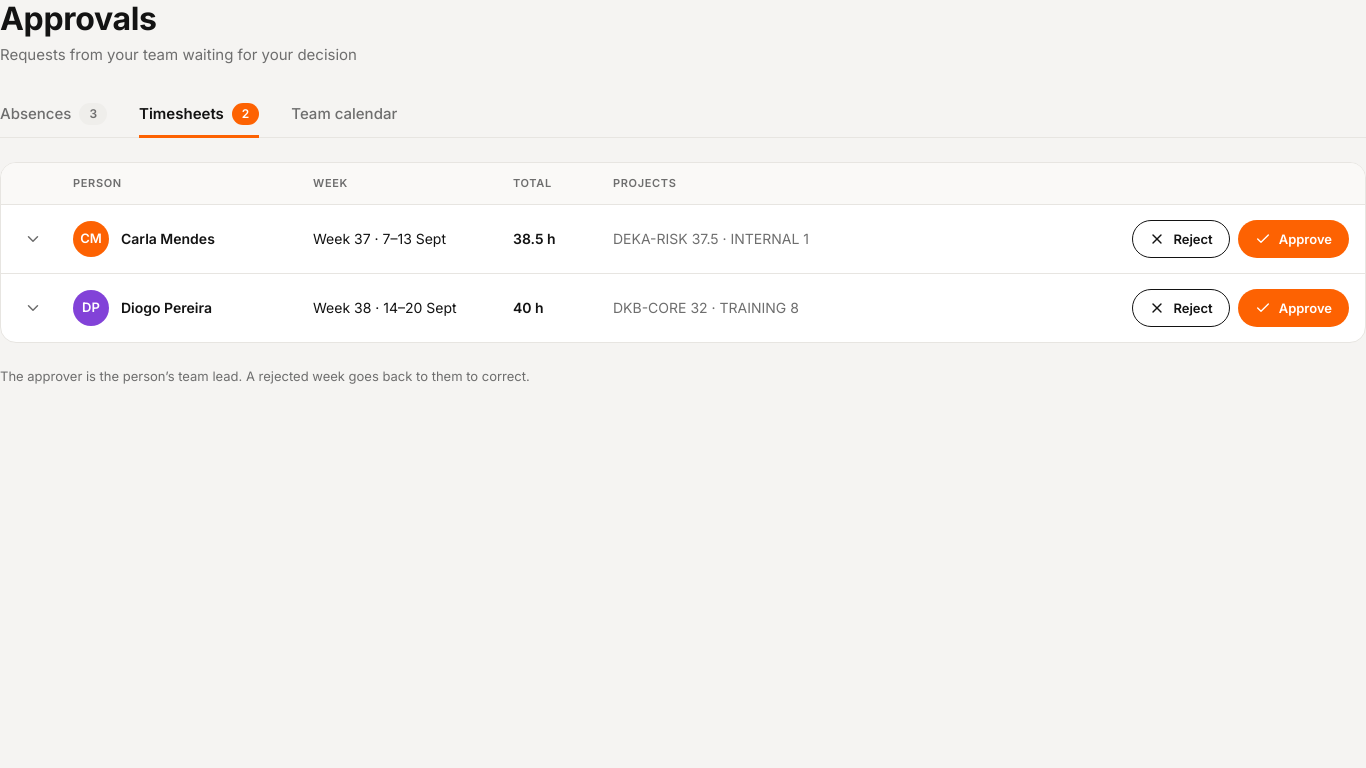
Test: ApprovalsView, Timesheets tab › shows a week’s descriptions from the grid
Check: the element showing "Absences 3 Timesheets 2 Team calendar" is shown, box [0,91,1365,138]
Step 1. Click the button named "Hours of Diogo Pereira’s week 38, 14–20 Sept" → [33, 308], box [17,292,49,324]
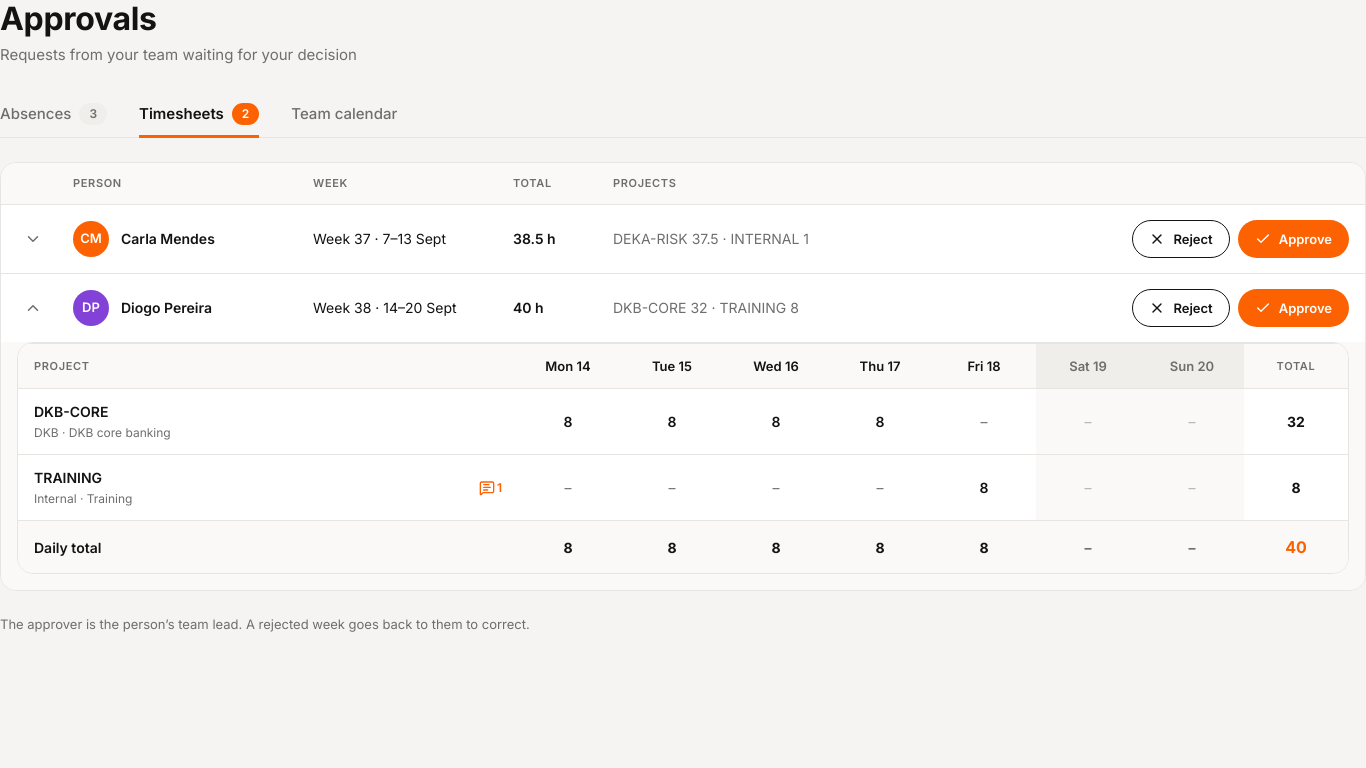
Step 2. Click the button "1" → [490, 488], box [473,473,508,503]
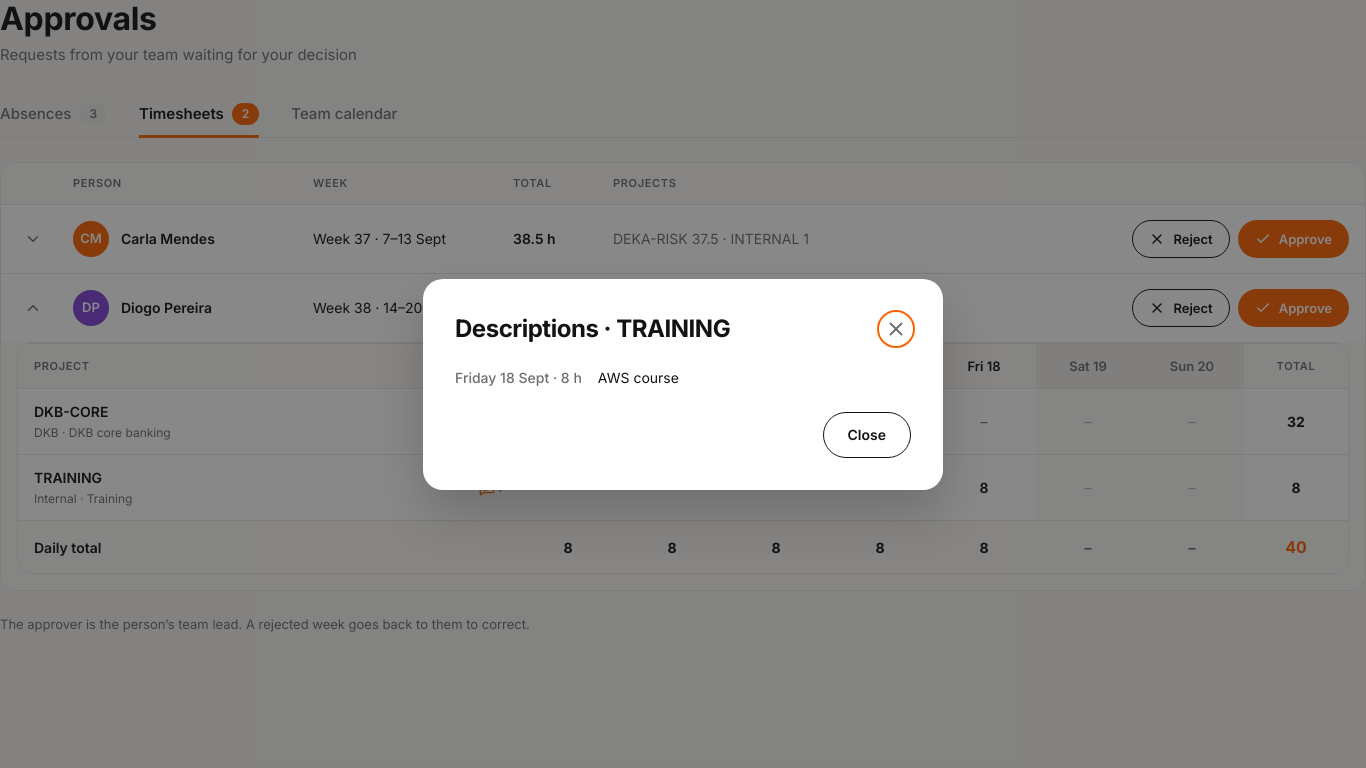
Check: the element showing "Friday 18 Sept · 8 h AWS course" is shown, box [455,368,679,386]
